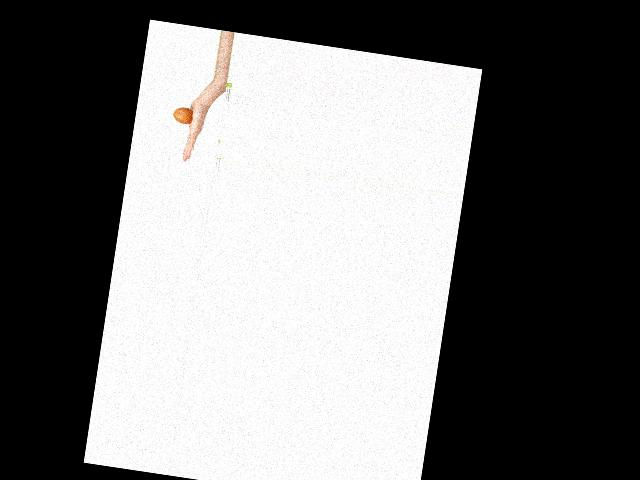egg: (172, 106, 194, 125)
